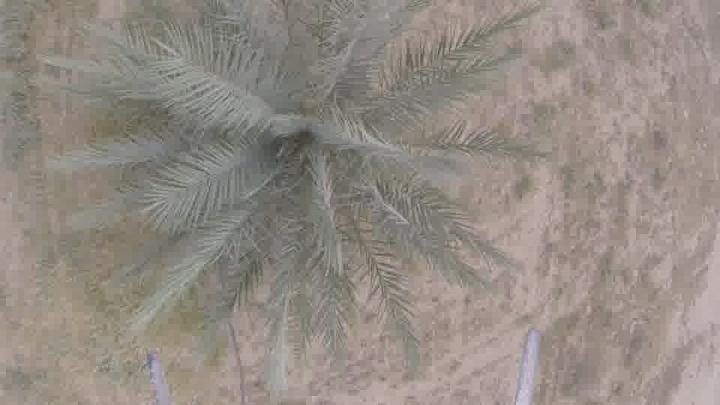Date-Palm-Crown: (144, 25, 439, 287)
